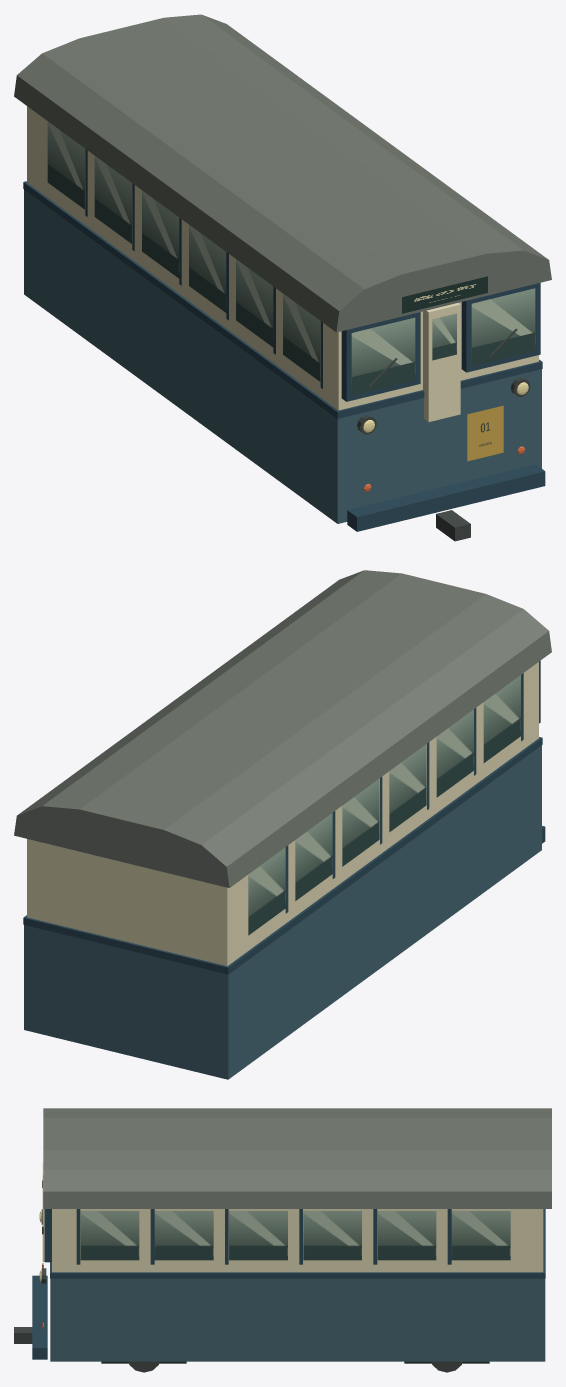
File: Background_BlueCreamLocalTrain.obj
3 renders of one model, top to bottom at view 1: azimuth 30°, elevation 25°; view 2: azimuth 150°, elevation 25°; view 3: azimuth 270°, elevation 25°, orthographic. The views are drawn at different scales.
Parts seen in each view (by area): view 1: Background_BlueCreamLocalTrain; view 2: Background_BlueCreamLocalTrain; view 3: Background_BlueCreamLocalTrain.
Boxes of the visible parts, bbox=[...] form: Background_BlueCreamLocalTrain: bbox=[14, 14, 551, 541]; Background_BlueCreamLocalTrain: bbox=[14, 570, 551, 1079]; Background_BlueCreamLocalTrain: bbox=[14, 1108, 551, 1372].
Size of the model in its own units: 2.3 by 2.75 by 6.3.
Materials: 2 (2 with a texture image).
